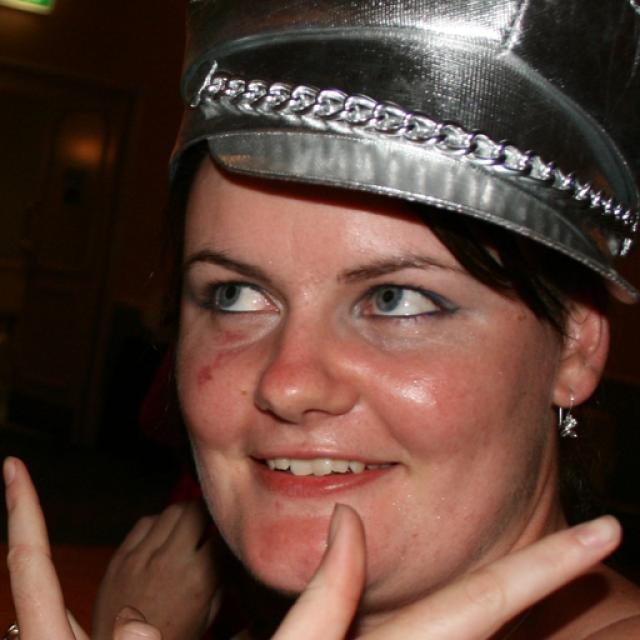happy: (176, 165, 549, 611)
